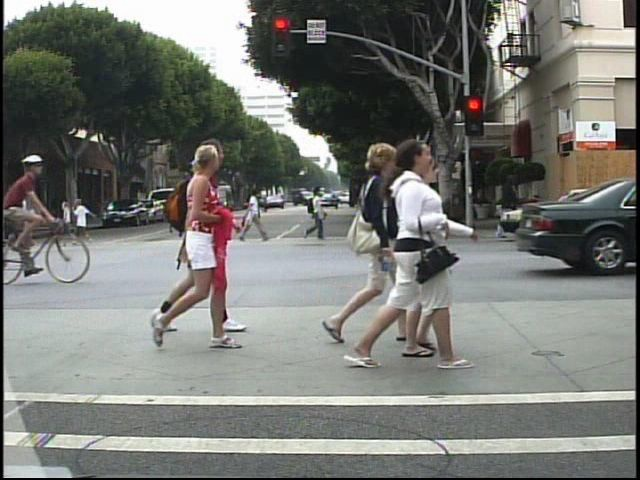person: (382, 136, 467, 376), (157, 141, 247, 350), (382, 159, 465, 366), (322, 141, 399, 352), (194, 141, 248, 339), (300, 184, 334, 246), (238, 185, 270, 249), (410, 177, 438, 242), (13, 188, 36, 248), (375, 187, 390, 223)
